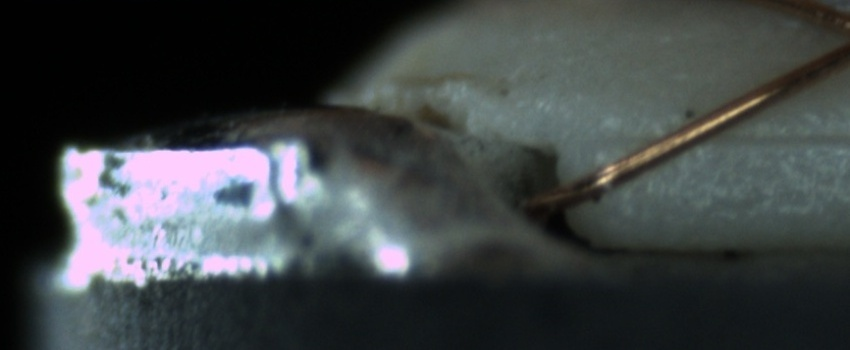DL: (612, 104, 846, 171)
